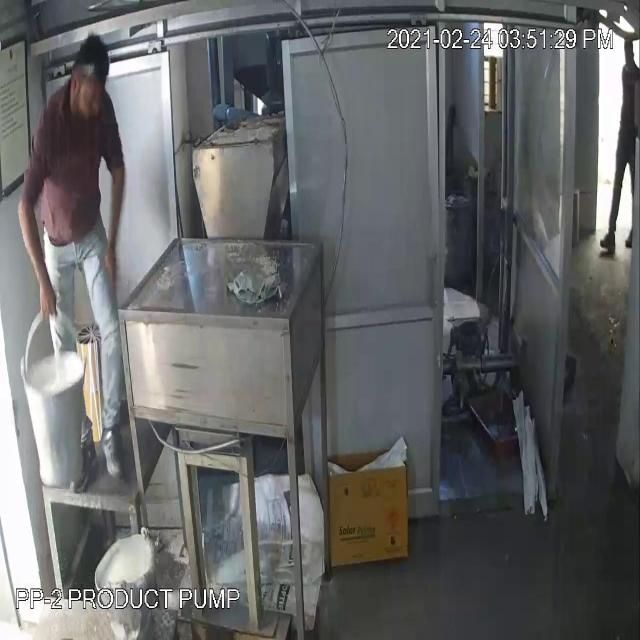no-helmet: (66, 24, 116, 108)
